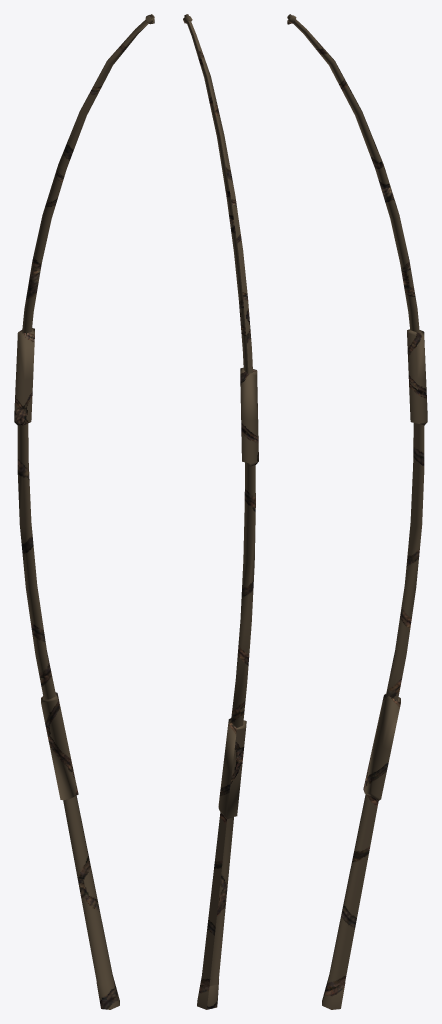
File: fishing_rod.obj
The picture shows the model from 3 angles, left to right: view 1: azimuth 90°, elevation 25°; view 2: azimuth 210°, elevation 25°; view 3: azimuth 270°, elevation 25°; orthographic projection.
Parts seen in each view (by area): view 1: fishing_rod; view 2: fishing_rod; view 3: fishing_rod.
Part boxes in pixels (x1,y1,x2,y2): fishing_rod: (14,14,154,1009); fishing_rod: (183,14,258,1009); fishing_rod: (287,14,427,1009).
Bounding box in the file's own units: 2.04 × 90.63 × 11.64.
